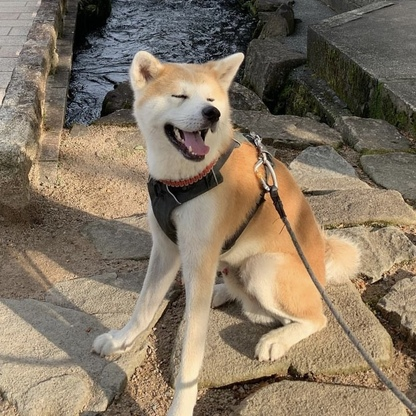akita: (86, 42, 367, 416)
